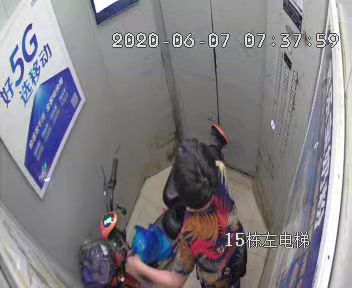Electric-bicycle: (80, 122, 229, 288)
